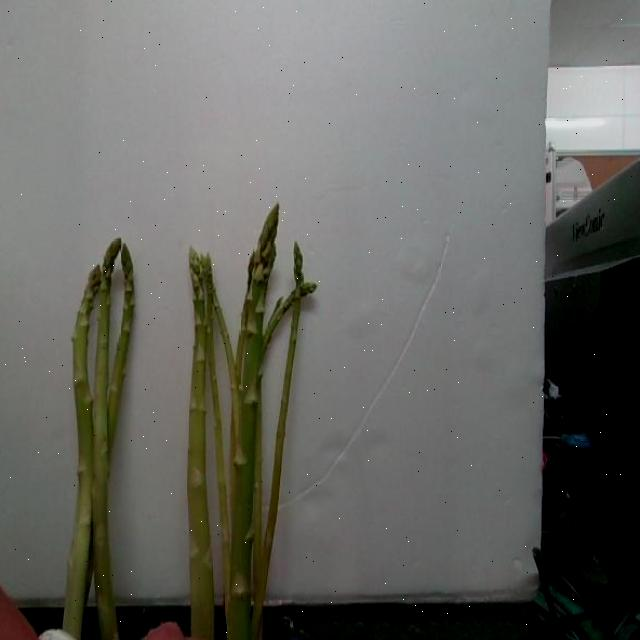aspargus: (229, 206, 280, 640), (60, 263, 103, 640), (185, 243, 219, 640)
